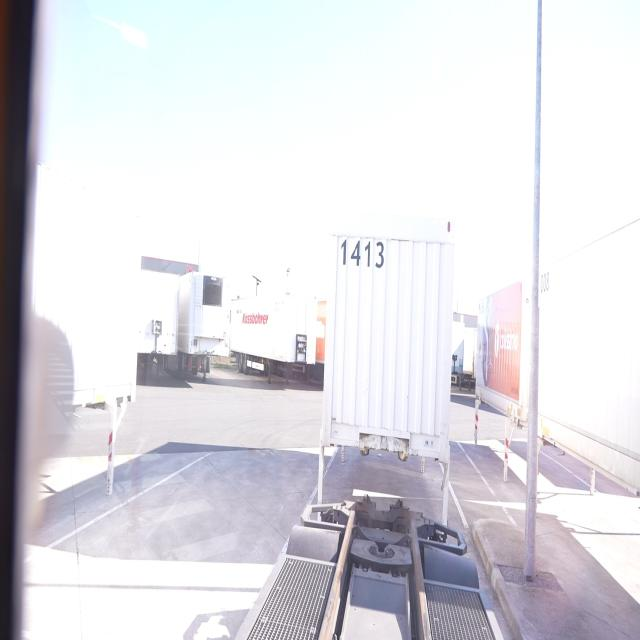Code: (338, 234, 385, 278)
